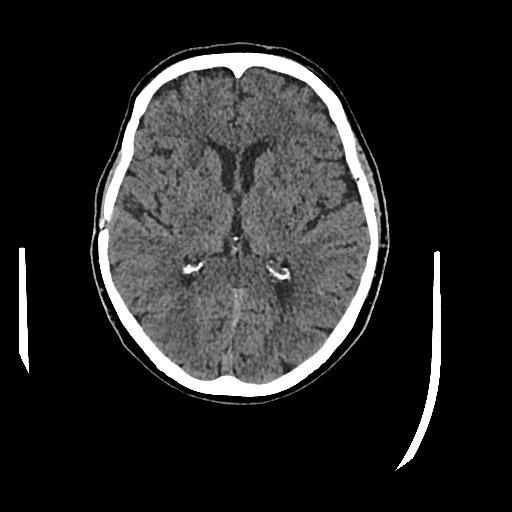Normal_Brain: (90, 42, 392, 410)
